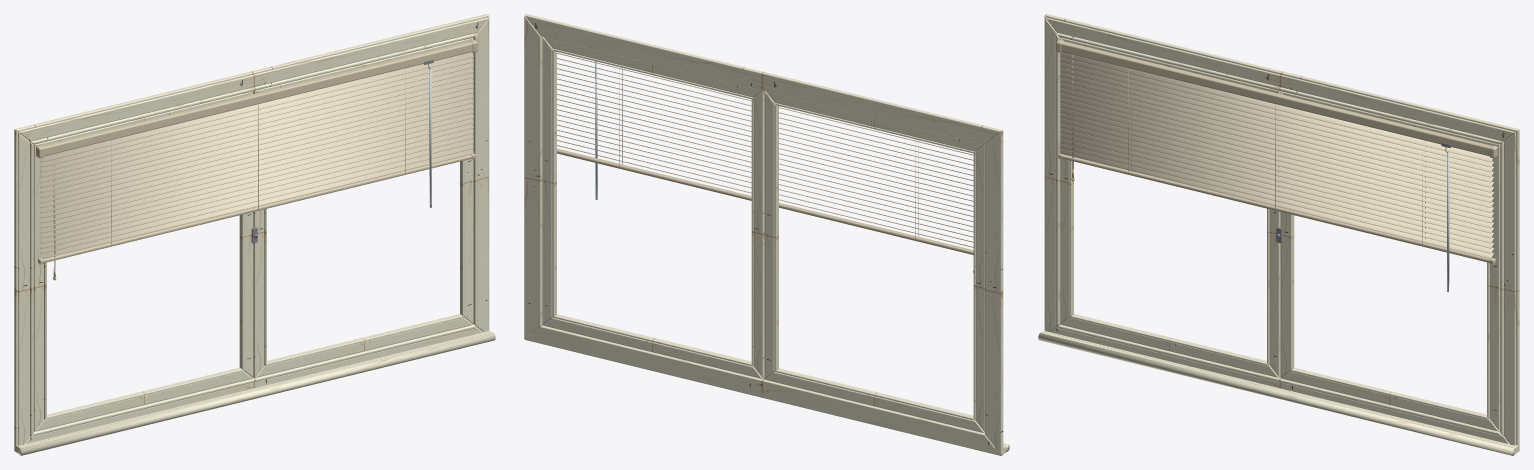
File: wall-window.glb
3 views of the same model, side by side, from view 1: azimuth 30°, elevation 25°; view 2: azimuth 150°, elevation 25°; view 3: azimuth 330°, elevation 25° (orthographic).
Visible parts, largest first — view 1: blinds, frame; view 2: frame, blinds; view 3: blinds, frame.
Part boxes in pixels (x1,y1,x2,y2): blinds: [36, 39, 477, 280]; frame: [14, 14, 495, 455]; frame: [524, 14, 1009, 455]; blinds: [557, 53, 973, 272]; blinds: [1056, 39, 1497, 292]; frame: [1038, 14, 1519, 455].
Bounding box in the file's own units: 2 × 1.3 × 0.0608.
6 materials, 1 textured.
